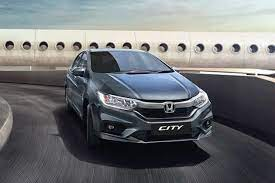Honda: (65, 47, 214, 153)
